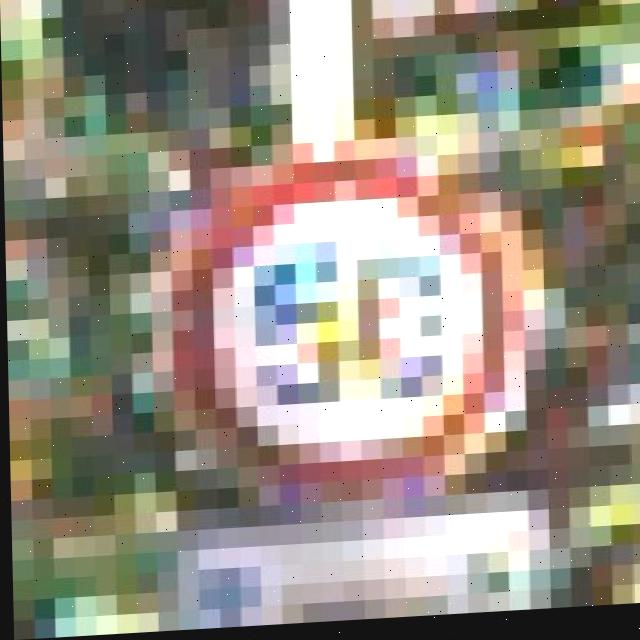Speed limit 50: (162, 132, 535, 515)
